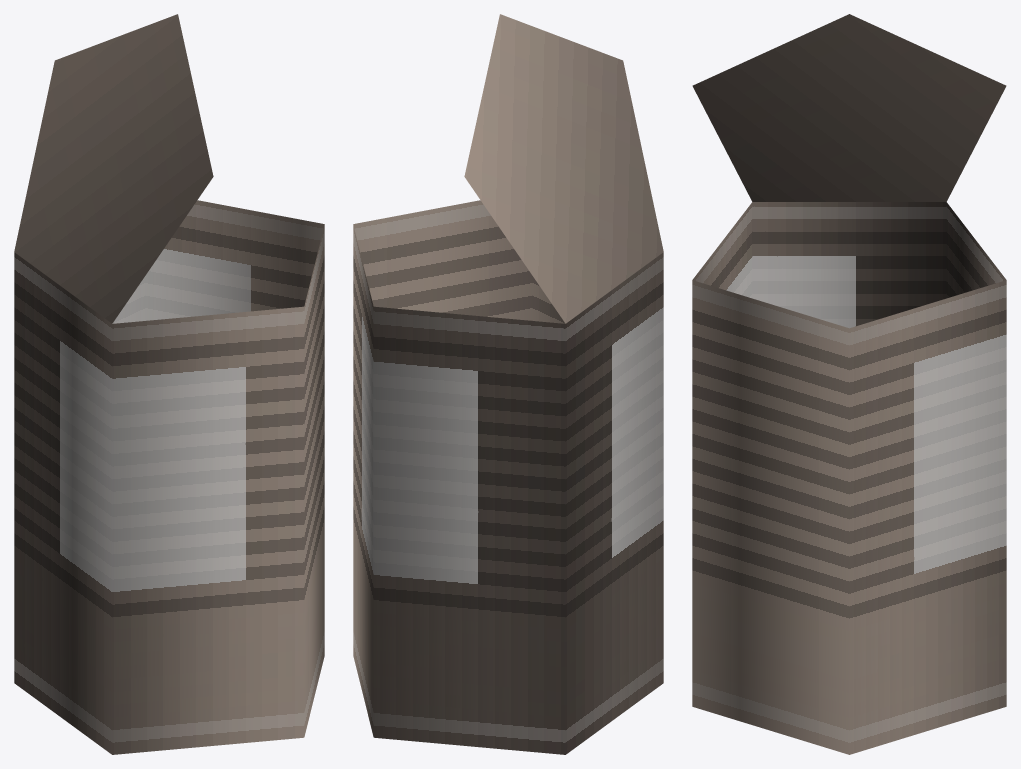
The model's file is M_Home_Garden_can2.fbx.
The picture shows the model from 3 angles, left to right: view 1: azimuth 30°, elevation 25°; view 2: azimuth 150°, elevation 25°; view 3: azimuth 270°, elevation 25°; orthographic projection.
Visible parts, largest first — view 1: M_Home_Garden_can2; view 2: M_Home_Garden_can2; view 3: M_Home_Garden_can2.
Boxes of the visible parts, x1=… form: M_Home_Garden_can2: x1=14, y1=14, x2=324, y2=754; M_Home_Garden_can2: x1=353, y1=14, x2=663, y2=754; M_Home_Garden_can2: x1=692, y1=14, x2=1006, y2=754.
Bounding box in the file's own units: 11.57 × 28.63 × 12.17.
